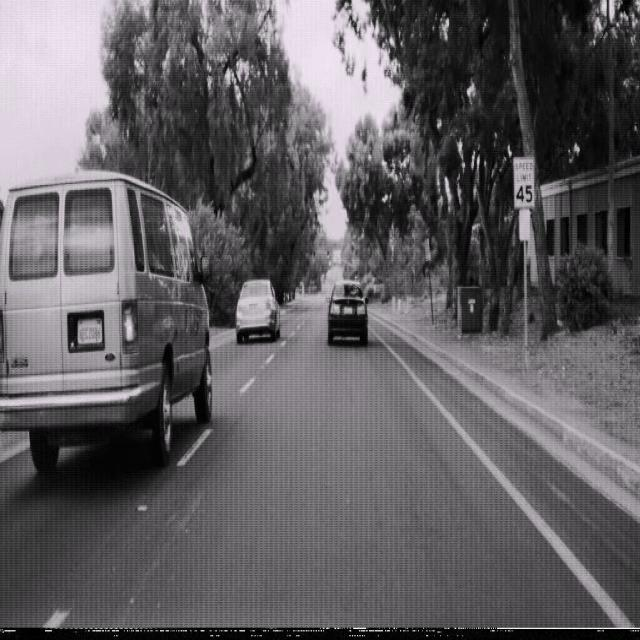speedLimit45: (513, 157, 535, 208)
